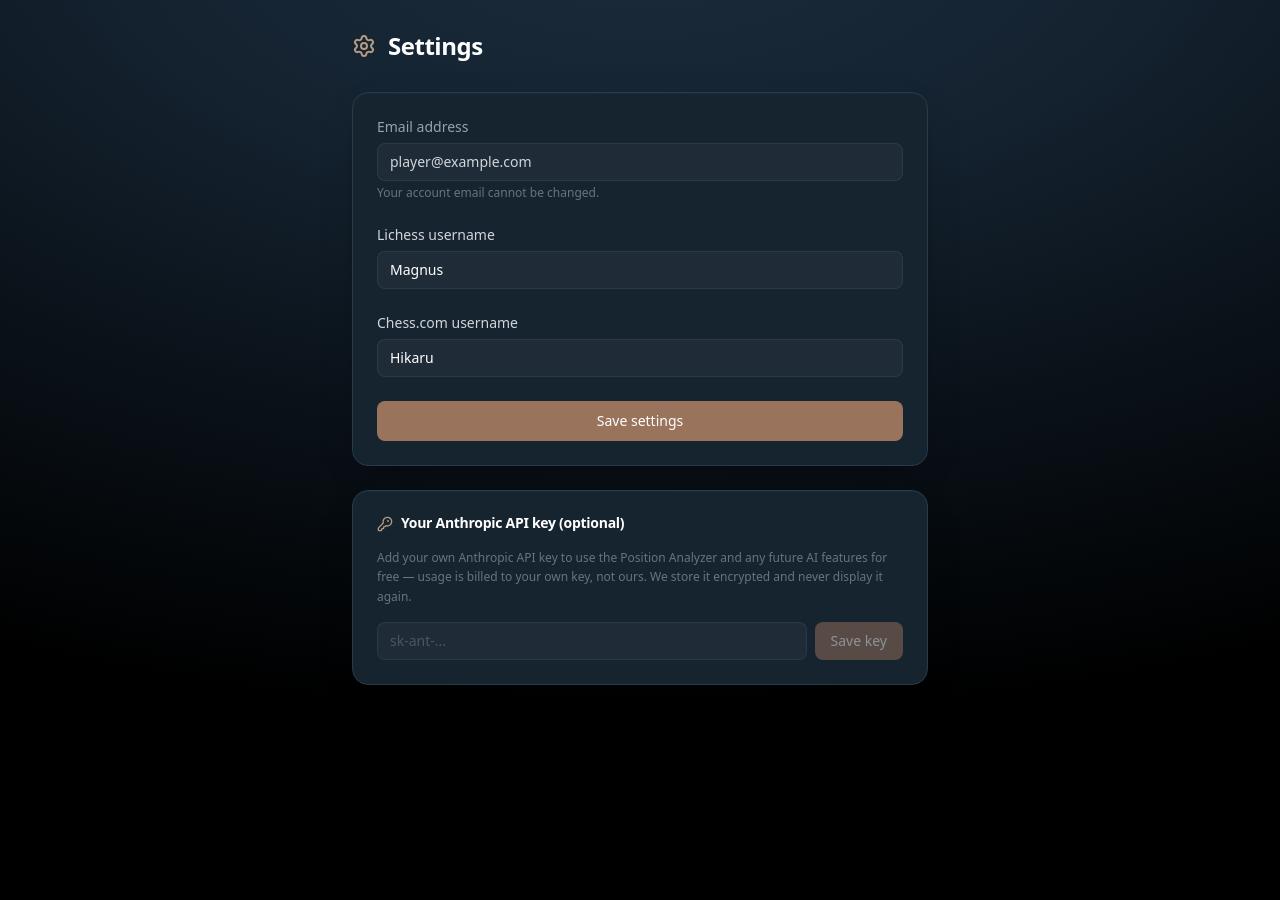
Scenario: SettingsPage › disables Save button while submitting
The width and height of the screenshot is (1280, 900).
What coordinates should you click on to do the following:
click the button "Save settings"
I would click on:
 (640, 421)
Its box is [377,401,903,441].
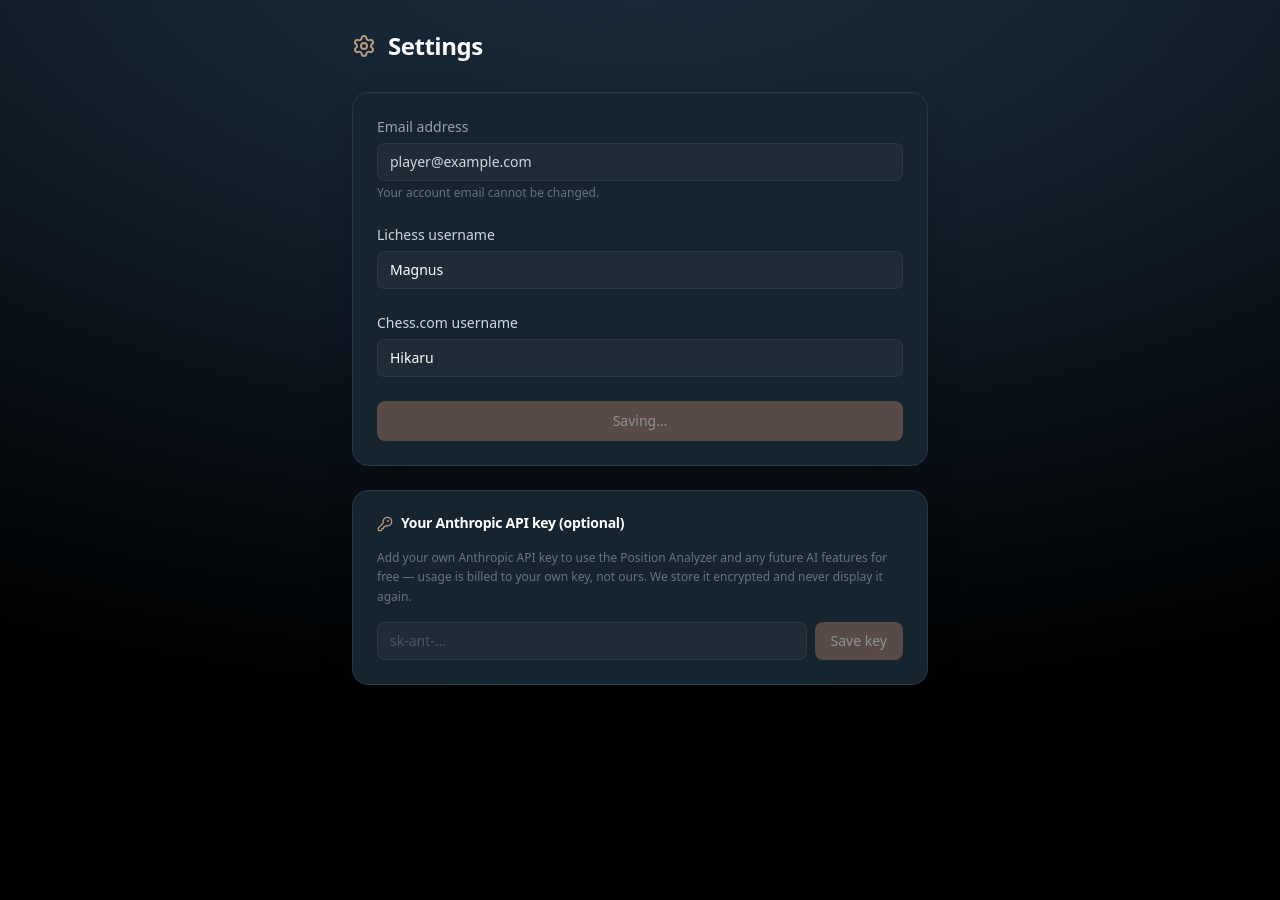
Check: the button "Saving…" is disabled, box [377,401,903,441]
